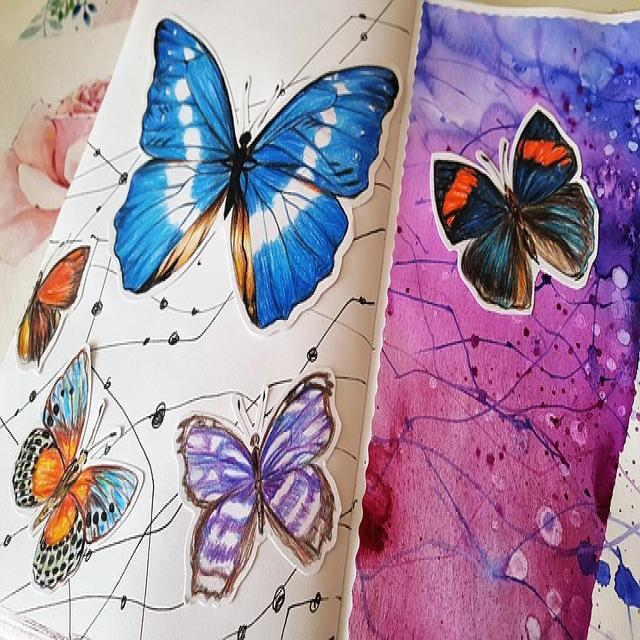butterfly: (115, 20, 399, 327), (174, 368, 342, 603), (430, 105, 599, 315), (12, 345, 145, 590)
